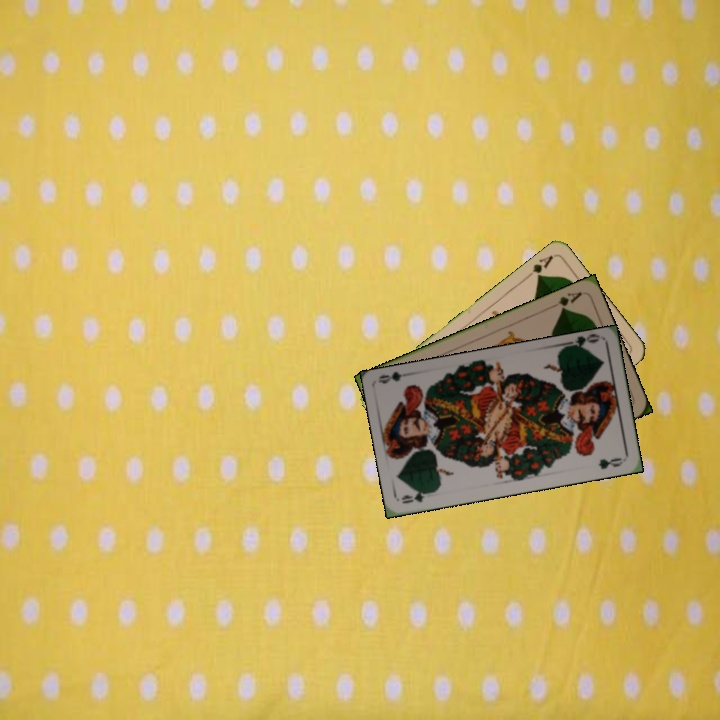GA: (521, 251, 556, 282), (546, 287, 585, 313)
GO: (562, 331, 602, 353), (398, 486, 438, 506)
